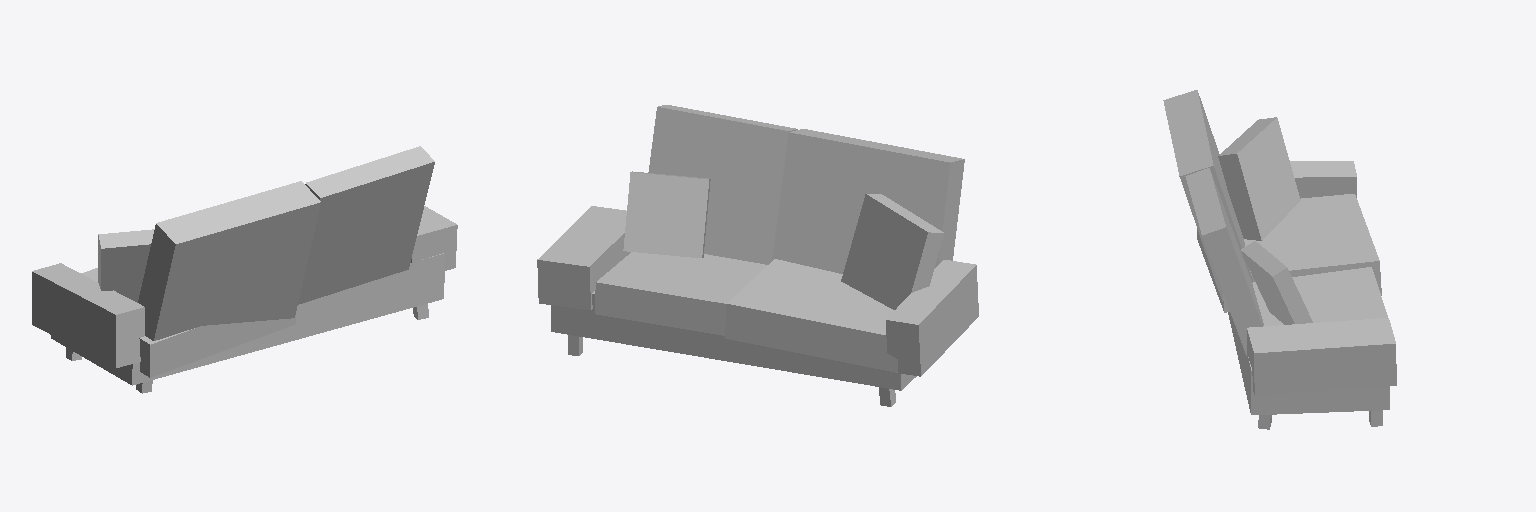
3 renders of one model, left to right at view 1: azimuth 30°, elevation 25°; view 2: azimuth 150°, elevation 25°; view 3: azimuth 270°, elevation 25°, orthographic.
Parts seen in each view (by area): view 1: group[number redacted], group[number redacted], group[number redacted], group[number redacted], group[number redacted], group[number redacted], group[number redacted]; view 2: group[number redacted], group[number redacted], group[number redacted], group[number redacted], group[number redacted], group[number redacted], group[number redacted], group[number redacted], group[number redacted]; view 3: group[number redacted], group[number redacted], group[number redacted], group[number redacted], group[number redacted], group[number redacted], group[number redacted], group[number redacted], group[number redacted].
Boxes of the visible parts, box(x1,y1,x2,y2) form: group[number redacted]: box(138, 181, 320, 340); group[number redacted]: box(298, 146, 434, 304); group[number redacted]: box(51, 253, 444, 385); group[number redacted]: box(32, 263, 144, 367); group[number redacted]: box(81, 268, 295, 377); group[number redacted]: box(98, 229, 154, 302); group[number redacted]: box(411, 206, 457, 270); group[number redacted]: box(774, 129, 964, 273); group[number redacted]: box(648, 105, 797, 264); group[number redacted]: box(725, 259, 897, 372); group[number redacted]: box(595, 252, 766, 335); group[number redacted]: box(551, 291, 916, 390); group[number redacted]: box(841, 194, 943, 309); group[number redacted]: box(886, 260, 978, 376); group[number redacted]: box(623, 171, 710, 257); group[number redacted]: box(537, 206, 630, 310); group[number redacted]: box(1247, 318, 1396, 395); group[number redacted]: box(1197, 194, 1381, 312); group[number redacted]: box(1218, 117, 1300, 240); group[number redacted]: box(1185, 168, 1263, 355); group[number redacted]: box(1163, 90, 1252, 304); group[number redacted]: box(1252, 267, 1387, 325); group[number redacted]: box(1228, 312, 1389, 414); group[number redacted]: box(1241, 241, 1312, 324); group[number redacted]: box(1290, 161, 1356, 198).
Bounding box in the file's own units: 2.19 × 1.08 × 1.17.